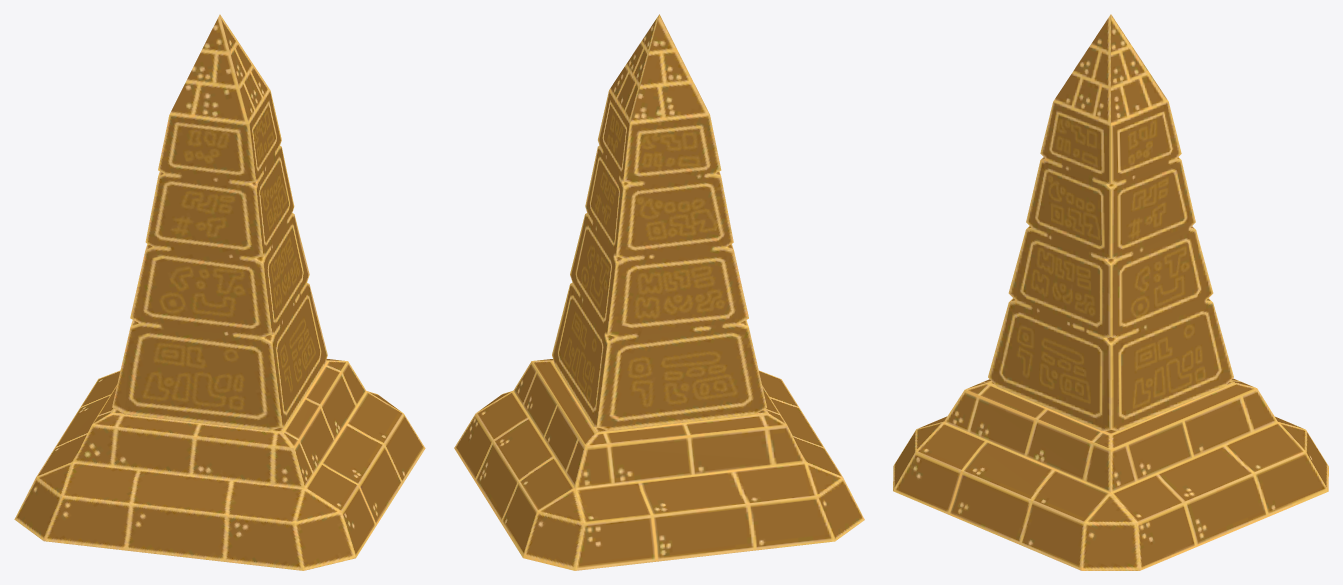
The model's file is ObeliskOfVengeance.glb.
3 views of the same model, side by side, from view 1: azimuth 30°, elevation 25°; view 2: azimuth 150°, elevation 25°; view 3: azimuth 270°, elevation 25° (orthographic).
Parts seen in each view (by area): view 1: ObelisxOfVengance; view 2: ObelisxOfVengance; view 3: ObelisxOfVengance.
Boxes of the visible parts, <box> form: ObelisxOfVengance: <box>14,14,425,570</box>; ObelisxOfVengance: <box>454,14,864,570</box>; ObelisxOfVengance: <box>893,14,1328,570</box>.
Size of the model in its own units: 0.2245 by 0.2641 by 0.2245.
Materials: 1 (1 with a texture image).
